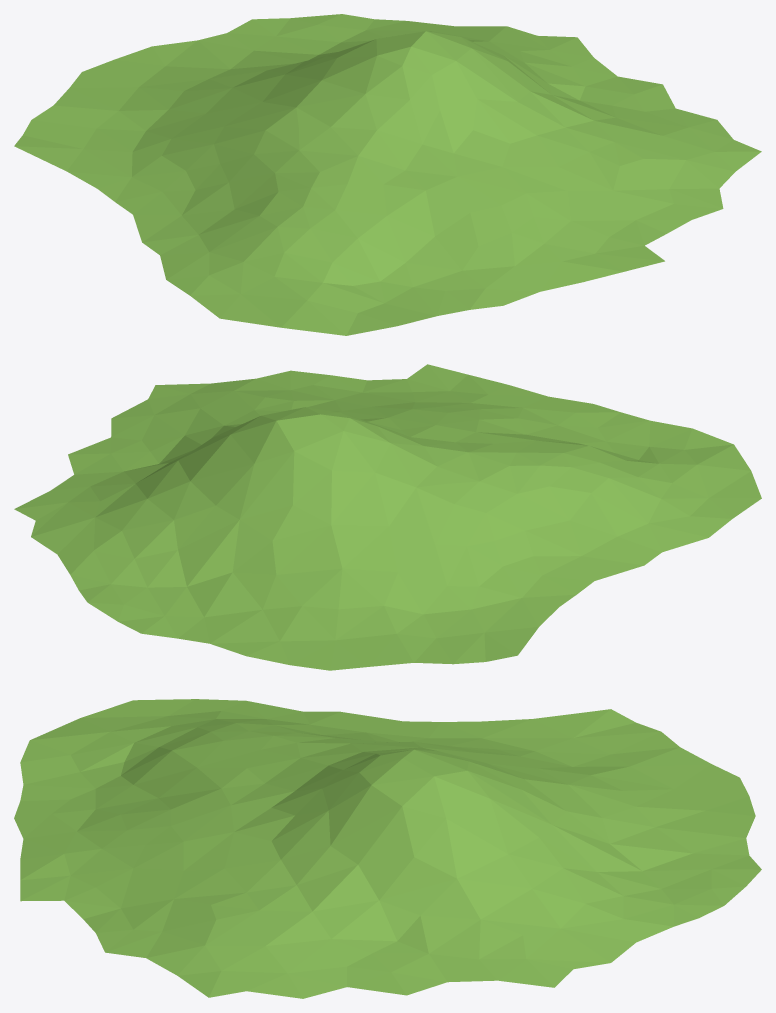
File: MT_Mountain_M_a_10_LOD.fbx
3 views of the same model, one above another, from view 1: azimuth 30°, elevation 25°; view 2: azimuth 150°, elevation 25°; view 3: azimuth 270°, elevation 25° (orthographic). The views are drawn at different scales.
Visible parts, largest first — view 1: MT_Mountain_M_a_10_LOD0; view 2: MT_Mountain_M_a_10_LOD0; view 3: MT_Mountain_M_a_10_LOD0.
Boxes of the visible parts, x1=… form: MT_Mountain_M_a_10_LOD0: x1=14, y1=14, x2=761, y2=335; MT_Mountain_M_a_10_LOD0: x1=14, y1=364, x2=761, y2=670; MT_Mountain_M_a_10_LOD0: x1=14, y1=699, x2=761, y2=998.
Size of what is drawn, in the model's own units: 4375 by 736 by 4648.
